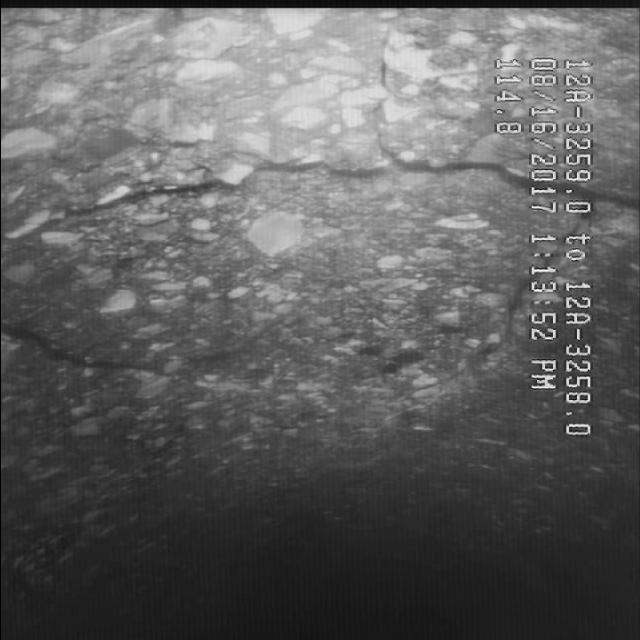Crack: (46, 91, 486, 286)
